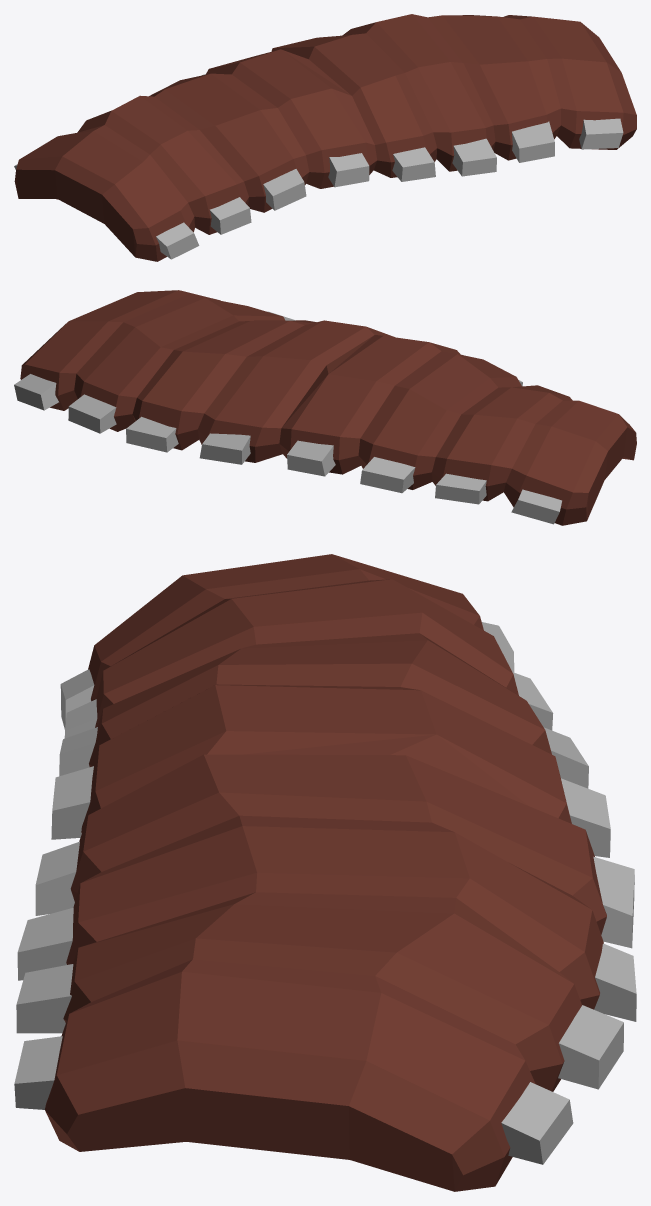
File: PorkMeat01.fbx
3 renders of one model, top to bottom at view 1: azimuth 30°, elevation 25°; view 2: azimuth 150°, elevation 25°; view 3: azimuth 270°, elevation 25°, orthographic. The views are drawn at different scales.
Visible parts, largest first — view 1: PorkMeat01; view 2: PorkMeat01; view 3: PorkMeat01.
Part boxes in pixels (left/top/right/bottom): PorkMeat01: left=14, top=14, right=636, bottom=261; PorkMeat01: left=14, top=290, right=636, bottom=525; PorkMeat01: left=14, top=554, right=636, bottom=1191.
Size of the model in its own units: 92.73 by 15.58 by 44.37.
